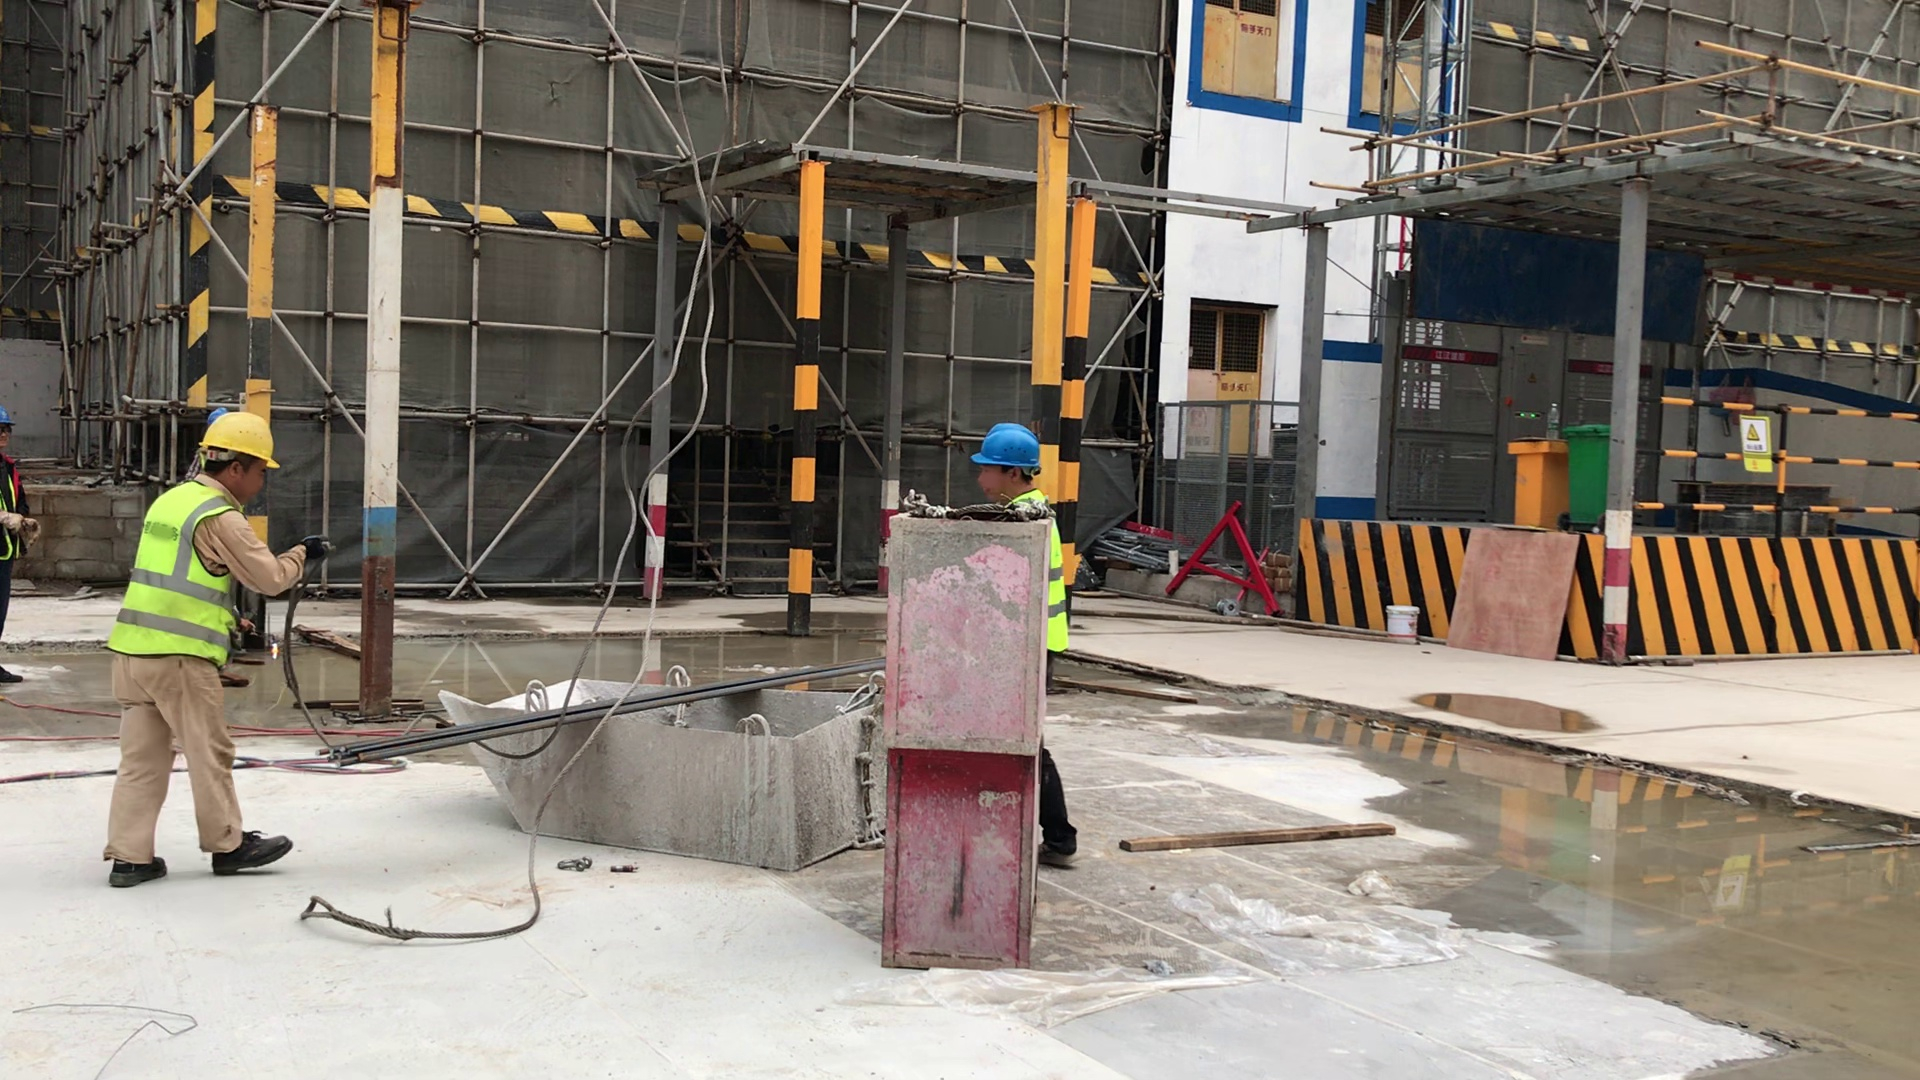fence: (1634, 387, 1920, 551)
helmet: (190, 408, 293, 469), (963, 414, 1056, 474), (2, 400, 25, 433), (204, 401, 231, 427)
hopper: (422, 635, 904, 892)
person: (108, 396, 311, 923), (962, 408, 1115, 883), (1, 400, 36, 710)
rebar: (318, 653, 890, 784)
slogan: (1733, 404, 1779, 485)
vest: (102, 477, 256, 670), (997, 491, 1093, 666), (1, 465, 32, 577)
